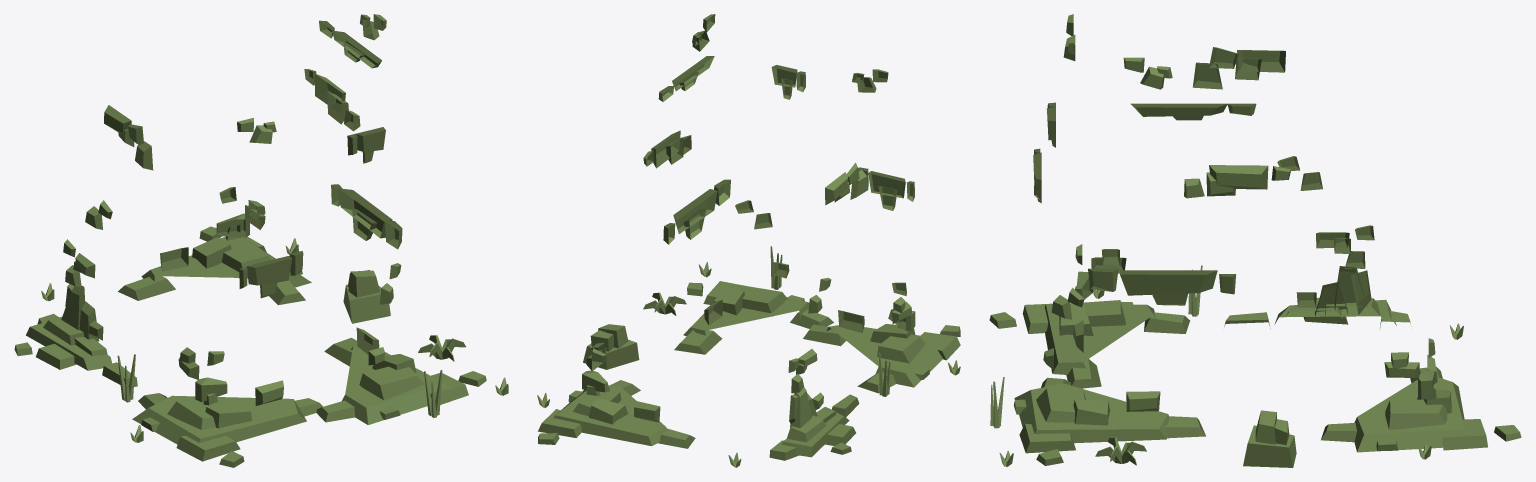
The model's file is SA_Bld_TownHouse_Growth_01.gltf.
3 renders of one model, left to right at view 1: azimuth 30°, elevation 25°; view 2: azimuth 150°, elevation 25°; view 3: azimuth 270°, elevation 25°, orthographic. The views are drawn at different scales.
Parts seen in each view (by area): view 1: SA_Bld_TownHouse_Growth_01; view 2: SA_Bld_TownHouse_Growth_01; view 3: SA_Bld_TownHouse_Growth_01.
Part boxes in pixels (<box>): SA_Bld_TownHouse_Growth_01: <box>14,14,508,467</box>; SA_Bld_TownHouse_Growth_01: <box>537,14,960,467</box>; SA_Bld_TownHouse_Growth_01: <box>989,14,1521,467</box>.
Bounding box in the file's own units: 15.29 × 15.09 × 19.32.
Materials: 1 (1 with a texture image).
